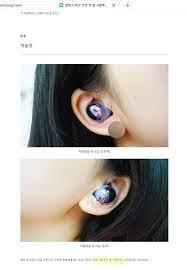earphone: (86, 99, 110, 121), (90, 181, 115, 202)
